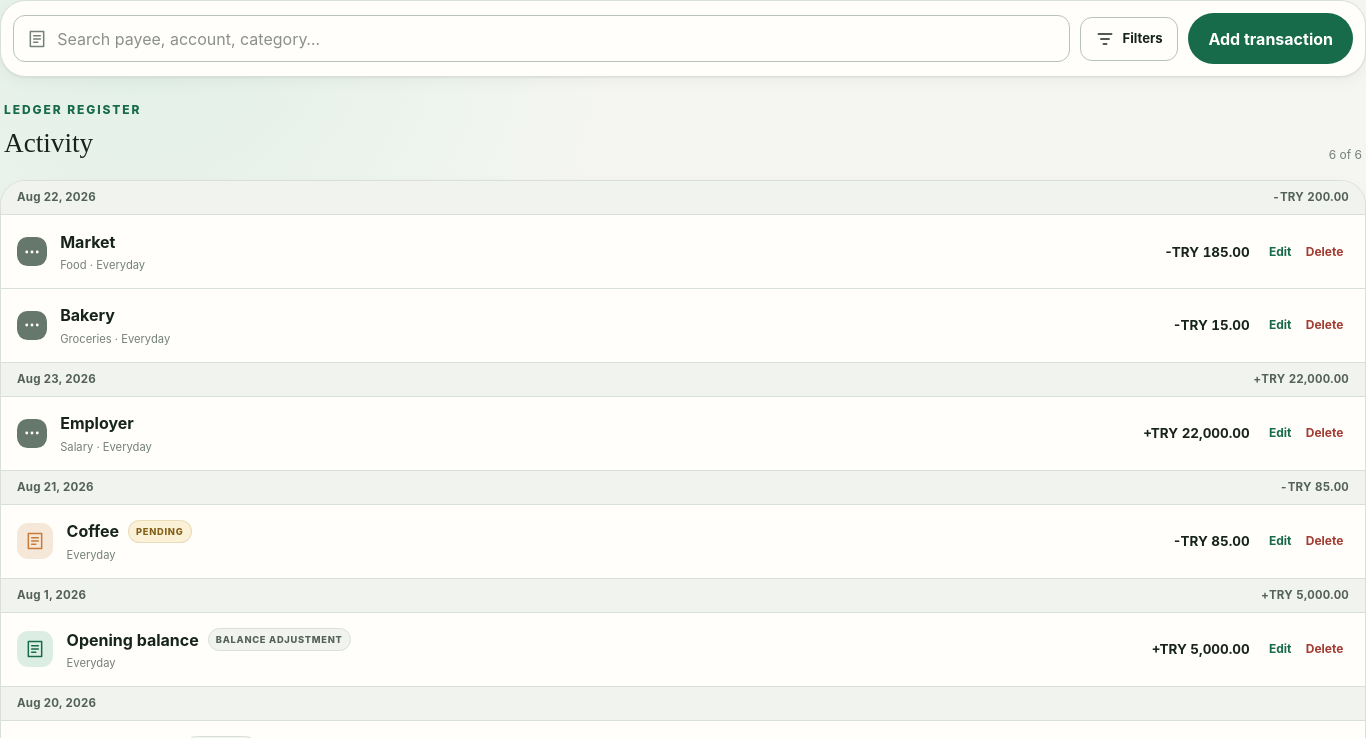
Test: TransactionsPanel › opens an everyday expense in the simple form without signs or allocations
The image size is (1366, 738).
Expected: the text "Market" is shown, [60,232,116,252]
Click the button "Edit" next to "-TRY 185.00". click: (1280, 252)
box: [1263,234,1297,270]
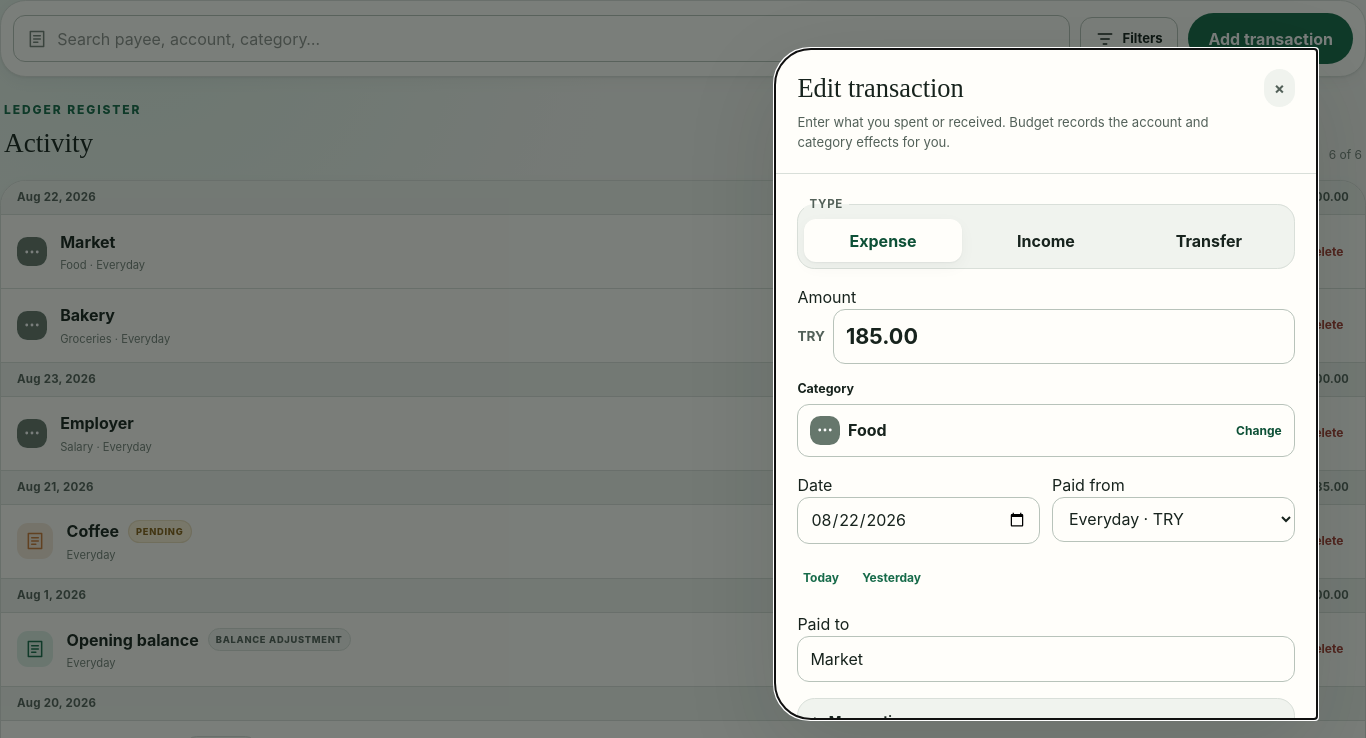
Now the dialog "Edit transaction" is shown, box [774,48,1318,720]
Now the radio button labelled "Expense" is checked, box [804,219,962,262]
Now the field labelled "Amount TRY" holds "185.00", box [833,309,1295,364]
